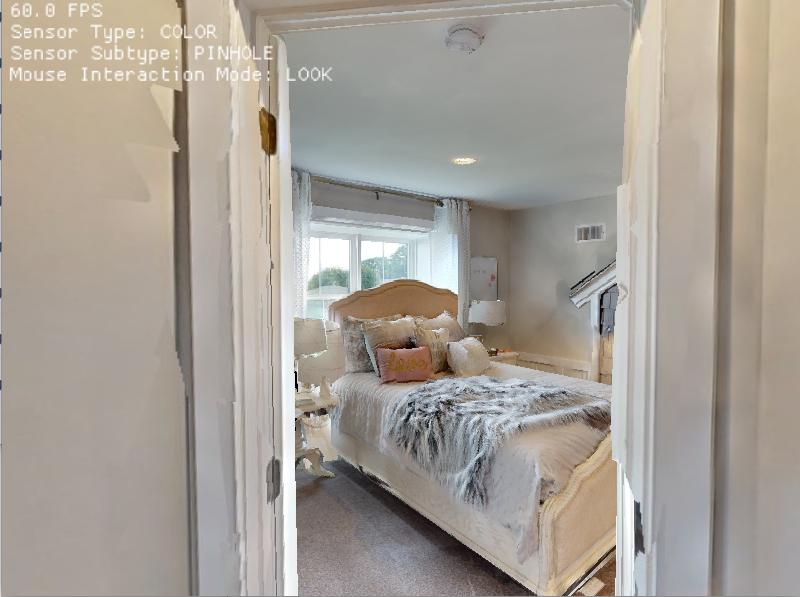bed: (301, 241, 618, 589)
door-frame: (179, 0, 710, 595)
